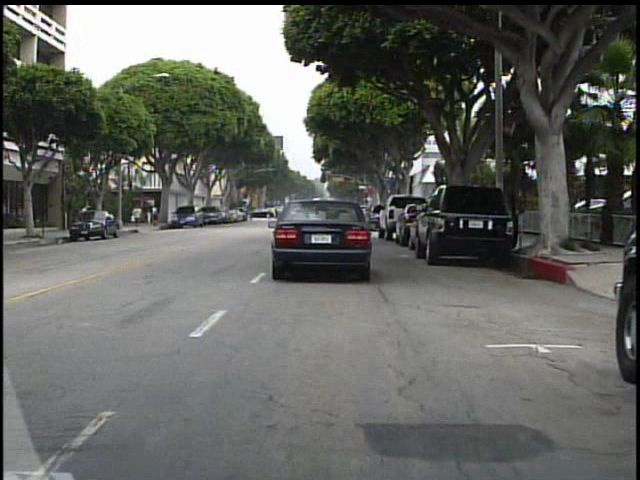person: (132, 202, 147, 231), (152, 202, 164, 227)
